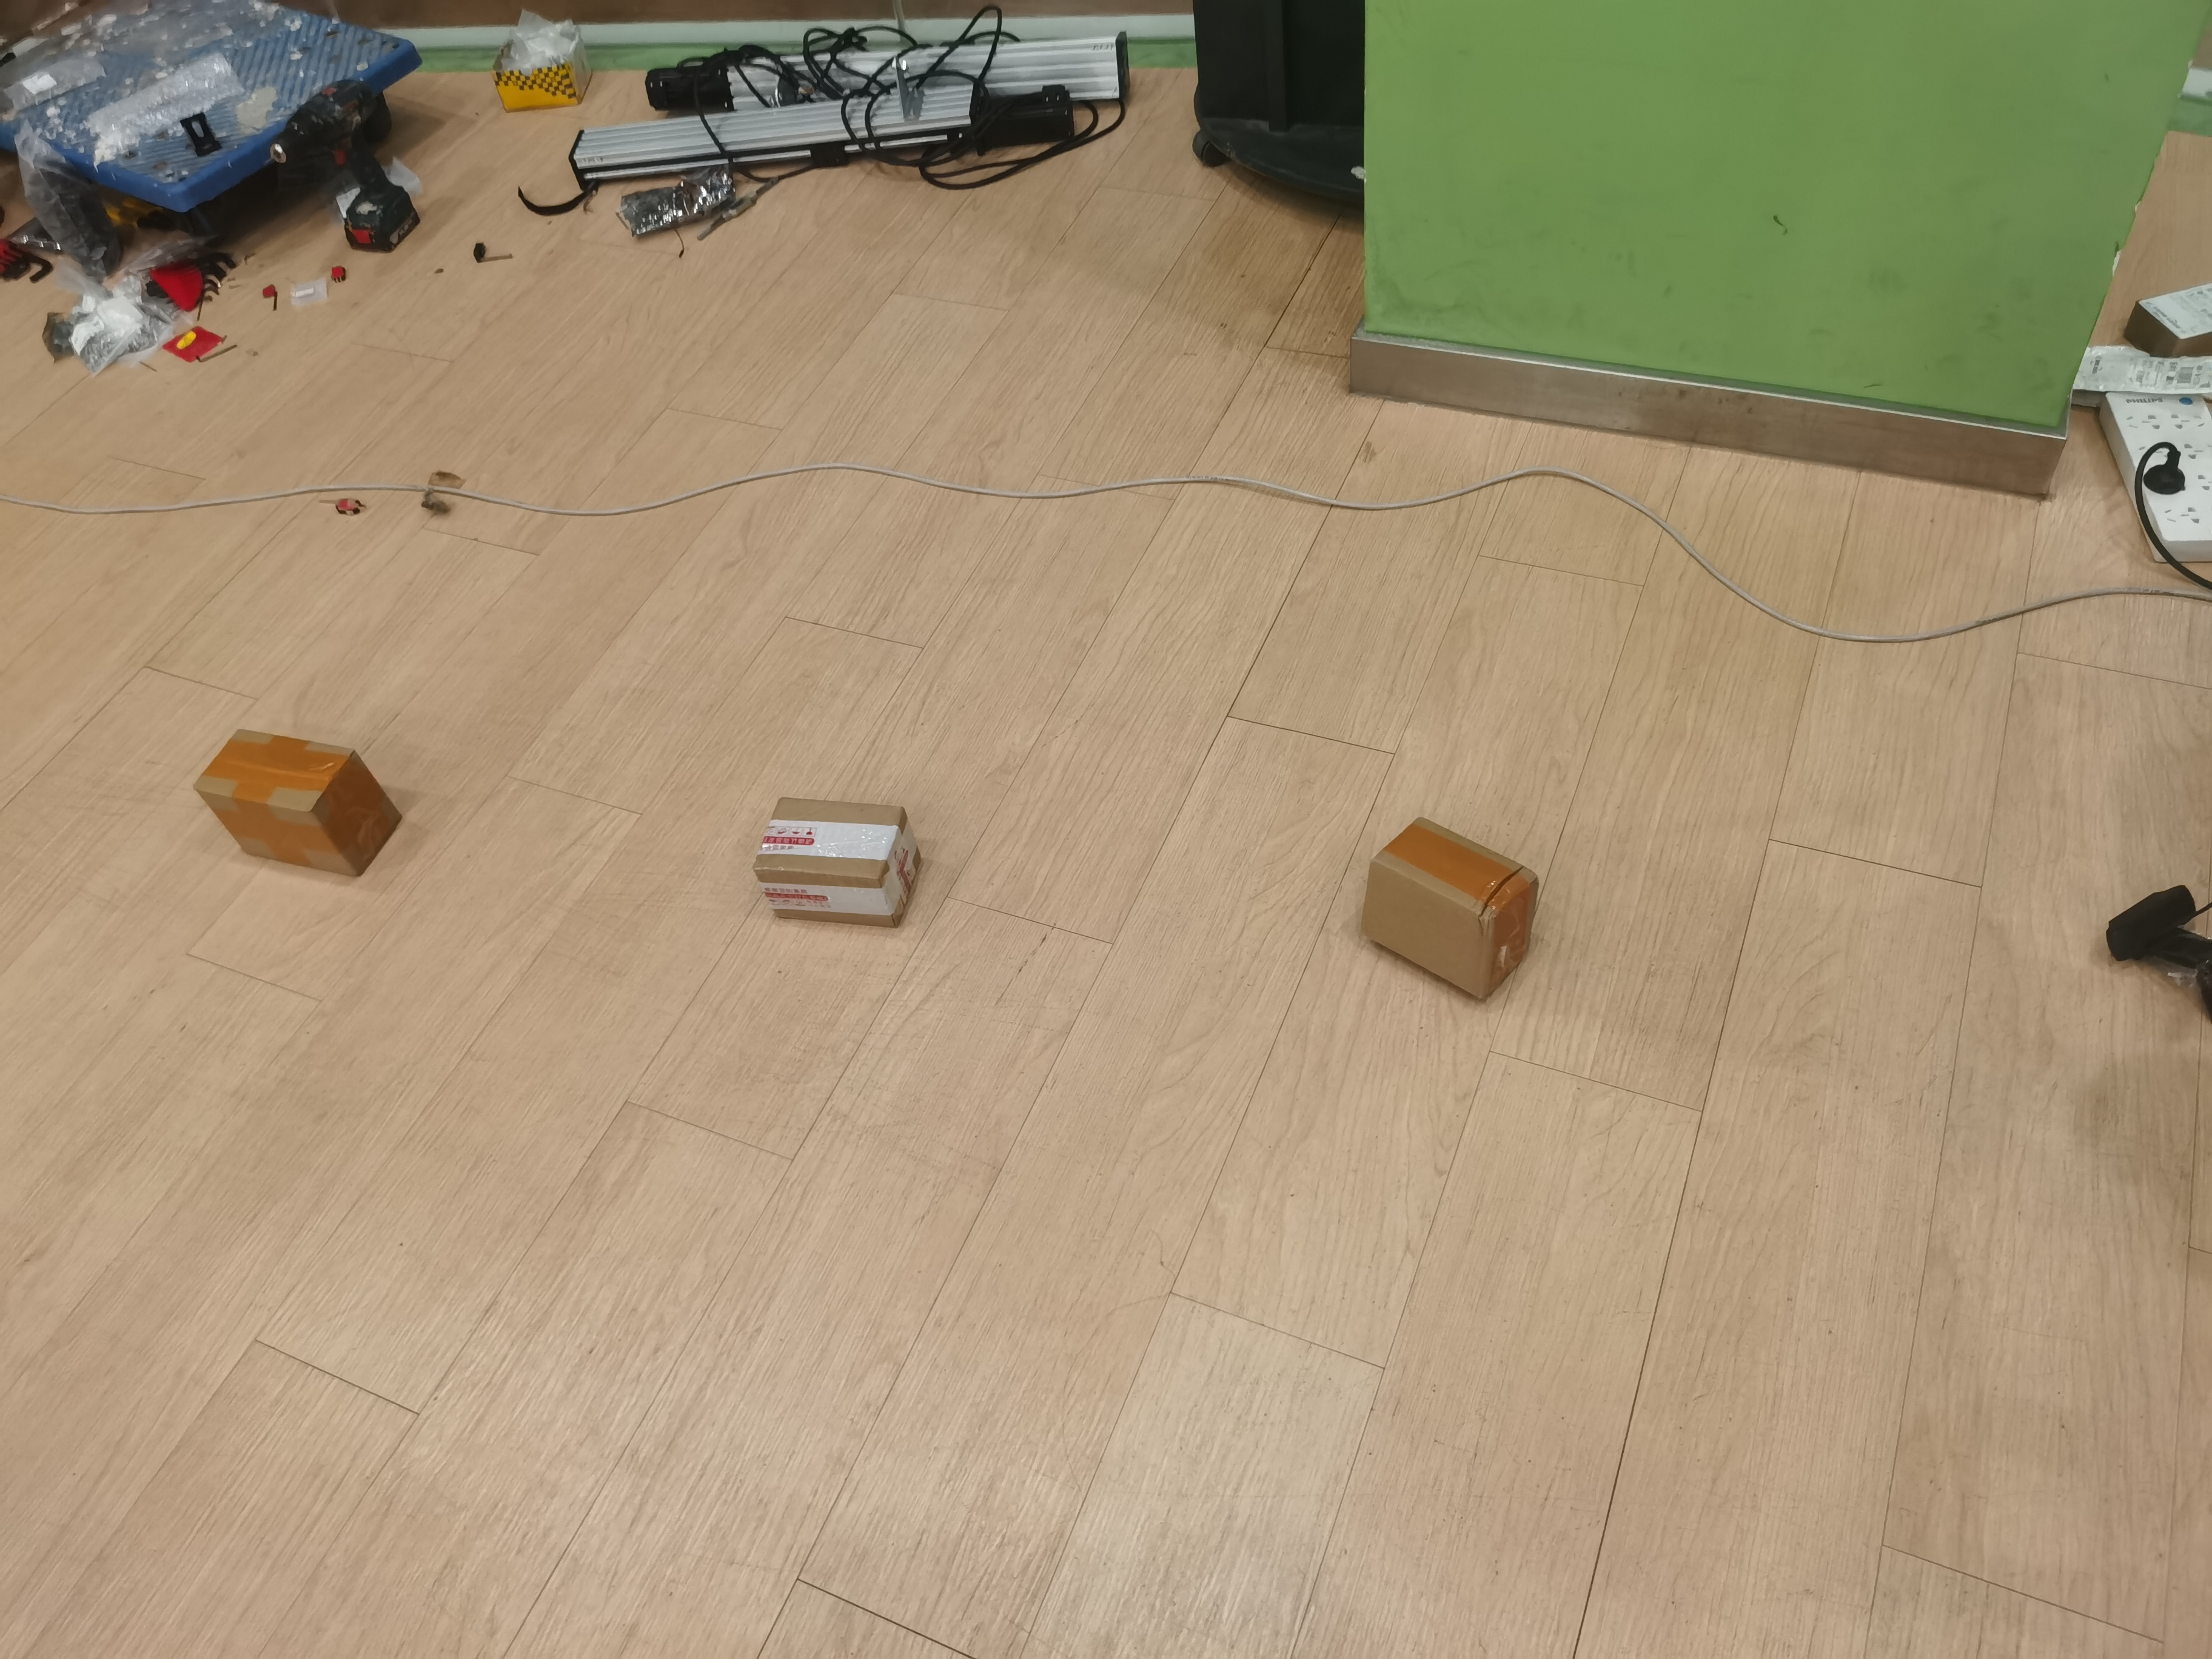box: (1348, 805, 1566, 1016), (193, 713, 401, 887), (747, 789, 925, 929)
